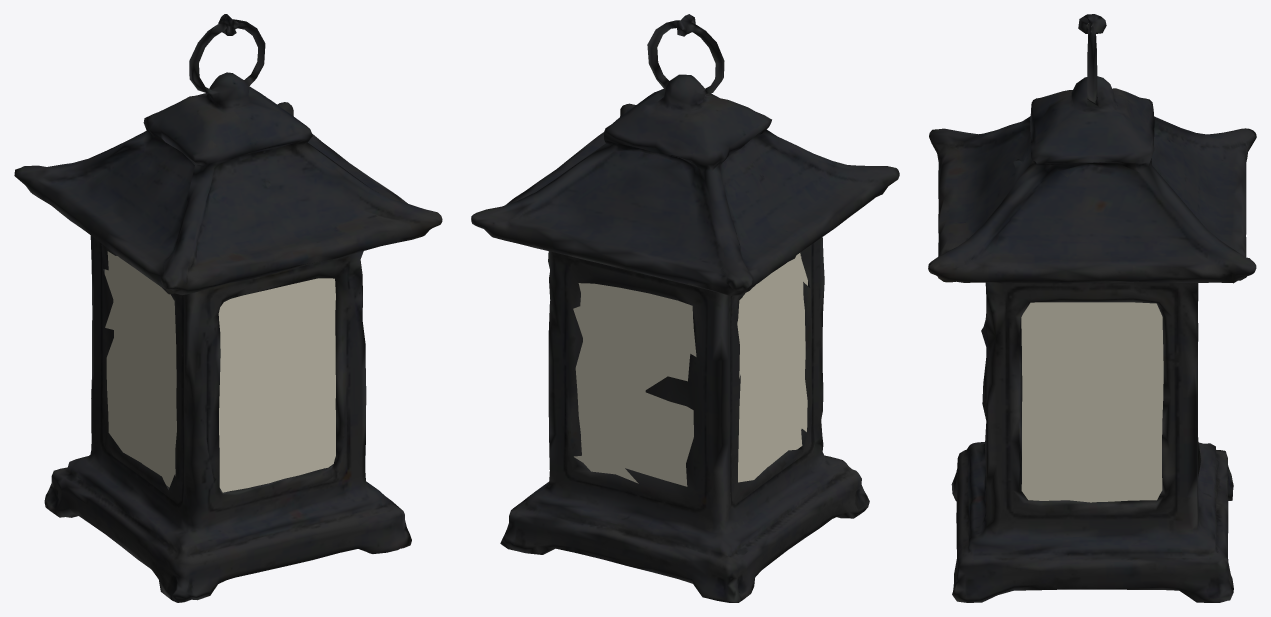
Rendered from gate_lantern.obj.
The picture shows the model from 3 angles, left to right: view 1: azimuth 30°, elevation 25°; view 2: azimuth 150°, elevation 25°; view 3: azimuth 270°, elevation 25°; orthographic projection. The views are drawn at different scales.
Visible parts, largest first — view 1: gate_lantern; view 2: gate_lantern; view 3: gate_lantern.
Part boxes in pixels (x1,y1,x2,y2): gate_lantern: (14,14,442,602); gate_lantern: (471,14,899,602); gate_lantern: (928,14,1256,602).
Bounding box in the file's own units: 0.2038 × 0.36 × 0.2021.
Materials: 1 (1 with a texture image).
